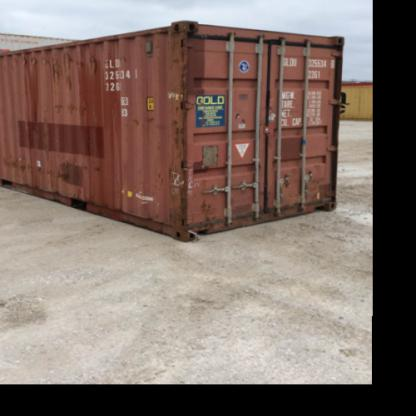Damage: (164, 31, 192, 217), (3, 150, 109, 188), (14, 51, 108, 80), (127, 106, 165, 137), (303, 164, 334, 202), (44, 93, 88, 110), (229, 100, 253, 128), (118, 47, 136, 77), (200, 194, 220, 219)
